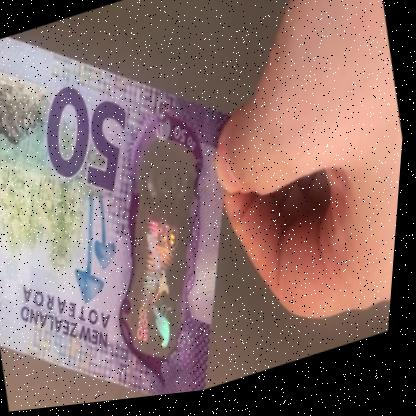50B: (102, 150, 234, 365)
